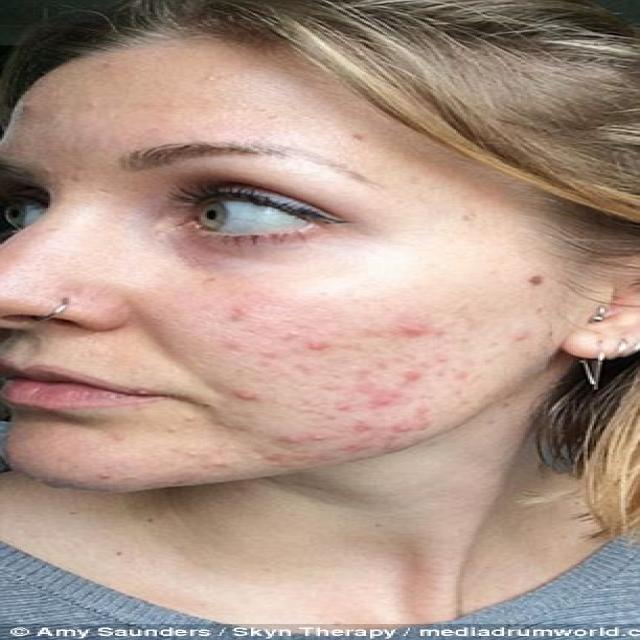Acne: (241, 366, 478, 472), (203, 304, 383, 366), (390, 314, 478, 358), (503, 318, 574, 359), (340, 122, 409, 158), (189, 439, 242, 476), (4, 93, 52, 125), (522, 266, 570, 296), (99, 465, 131, 493)
